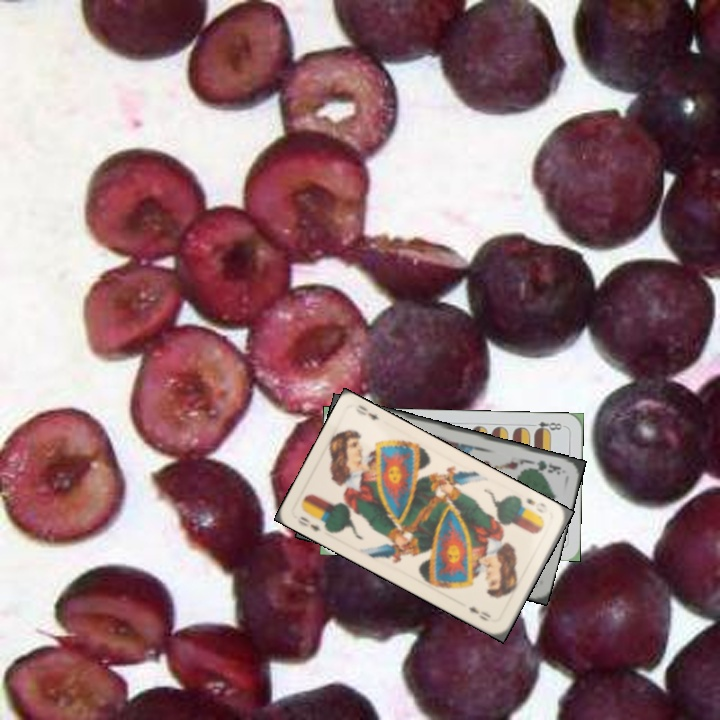E8: (527, 418, 567, 435)
EO: (293, 512, 324, 534), (522, 494, 550, 516)
GK: (525, 456, 564, 477)
